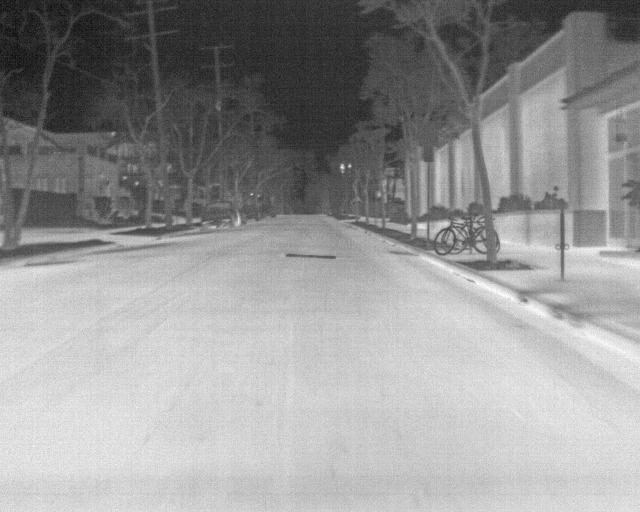bicycle: (433, 226, 486, 254)
car: (200, 202, 241, 232), (241, 203, 260, 222), (260, 204, 276, 220)
